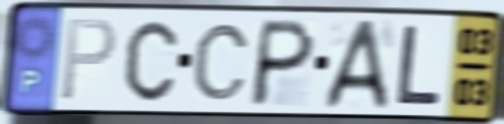A: (321, 17, 392, 111)
C: (190, 21, 252, 103), (123, 18, 180, 104)
L: (393, 22, 444, 108)
P: (246, 16, 319, 110), (58, 16, 119, 104)
